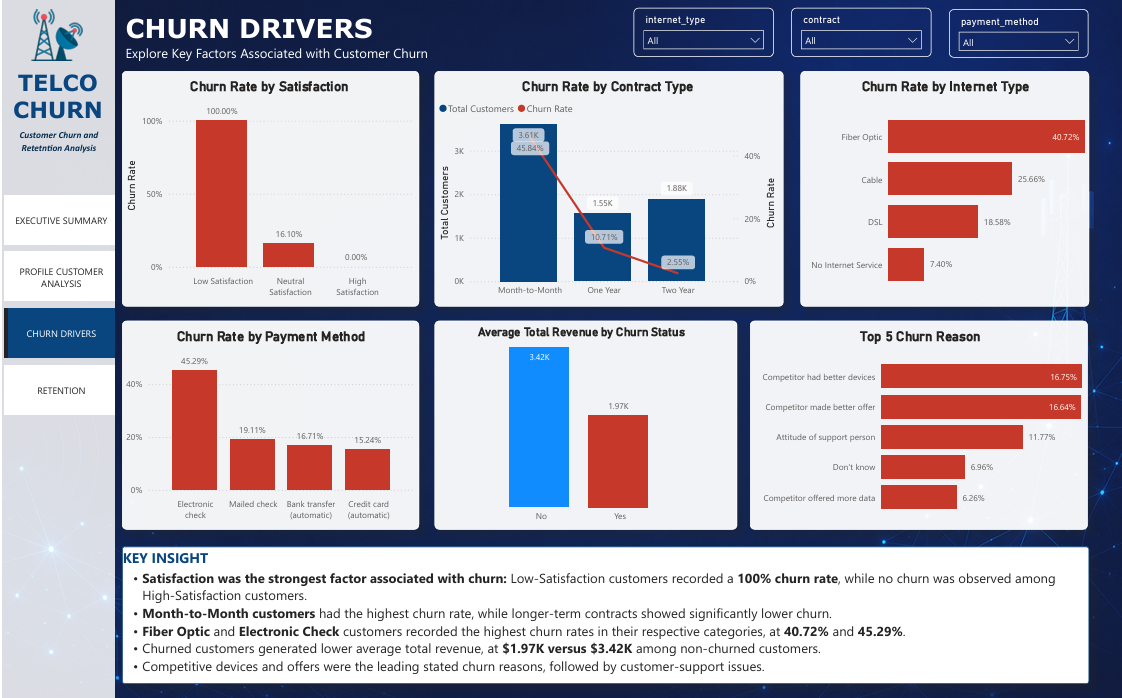

Layout of this report page (visuals, bound fields, positions):
{"tool":"powerbi","page":{"name":"CHURN DRIVERS","canvas":[1600,1000],"ordinal":2},"visuals":[{"type":"textbox","box":[170,10,1394,100],"z":0},{"type":"columnChart","title":"Churn Rate by Payment Method","fields":{"Category":["telco_churn_final_analysis.payment_method"],"Y":["telco_churn_final_analysis.Churned Rate"]},"box":[170,456,424,298],"z":1000},{"type":"clusteredBarChart","title":"Top 5 Churn Reason","fields":{"Category":["telco_churn_final_analysis.churn_reason"],"Y":["telco_churn_final_analysis.Churn Reason Percentage"]},"box":[1066,456,482,298],"z":2000},{"type":"barChart","title":"Churn Rate by Internet Type","fields":{"Category":["telco_churn_final_analysis.internet_type"],"Y":["telco_churn_final_analysis.Churn Rate"]},"box":[1138,100,412,336],"z":3000},{"type":"columnChart","title":"Average Total Revenue by Churn Status","fields":{"Y":["Avg(telco_churn_final_analysis.total_revenue)"],"Category":["telco_churn_final_analysis.churn_label"]},"box":[616,456,432,298],"z":4000},{"type":"columnChart","title":"Churn Rate by Satisfaction","fields":{"Category":["telco_churn_final_analysis.satisfaction_group"],"Y":["telco_churn_final_analysis.Churn Rate"]},"box":[170,100,424,336],"z":5000},{"type":"textbox","title":"KEY INSIGHT","box":[170,778,1380,196],"z":6000},{"type":"lineStackedColumnComboChart","title":"Churn Rate by Contract Type","fields":{"Category":["telco_churn_final_analysis.contract"],"Y2":["telco_churn_final_analysis.Churn Rate"],"Y":["telco_churn_final_analysis.Total Customers"]},"box":[616,100,498,336],"z":7000},{"type":"shape","box":[0,0,160,1000],"z":8000},{"type":"image","box":[27.1,12.9,100,72.9],"z":9000},{"type":"textbox","box":[1.4,91.4,154.3,104.3],"z":10000},{"type":"textbox","box":[2.9,177.1,154.3,54.3],"z":11000},{"type":"slicer","fields":{"Values":["telco_churn_final_analysis.internet_type"]},"box":[900,10,200,70],"z":12000},{"type":"slicer","fields":{"Values":["telco_churn_final_analysis.contract"]},"box":[1125,10,200,70],"z":13000},{"type":"slicer","fields":{"Values":["telco_churn_final_analysis.payment_method"]},"box":[1349.9,12,199,68.6],"z":14000},{"type":"pageNavigator","box":[1.5,277.5,158.3,316.7],"z":15000}]}

Visuals, with their boxes in screenshot pixels (x1, y1, x2, y2), scaled from the page's 1600x1000 canvas onto the 1122x698 screenshot:
textbox: 119, 7, 1097, 77
"Churn Rate by Payment Method" columnChart: 119, 318, 417, 526
"Top 5 Churn Reason" clusteredBarChart: 748, 318, 1086, 526
"Churn Rate by Internet Type" barChart: 798, 70, 1087, 304
"Average Total Revenue by Churn Status" columnChart: 432, 318, 735, 526
"Churn Rate by Satisfaction" columnChart: 119, 70, 417, 304
"KEY INSIGHT" textbox: 119, 543, 1087, 680
"Churn Rate by Contract Type" lineStackedColumnComboChart: 432, 70, 781, 304
shape: 0, 0, 112, 697
image: 19, 9, 89, 60
textbox: 1, 64, 109, 137
textbox: 2, 124, 110, 162
slicer - telco_churn_final_analysis.internet_type: 631, 7, 771, 56
slicer - telco_churn_final_analysis.contract: 789, 7, 929, 56
slicer - telco_churn_final_analysis.payment_method: 947, 8, 1086, 56
pageNavigator: 1, 194, 112, 415
